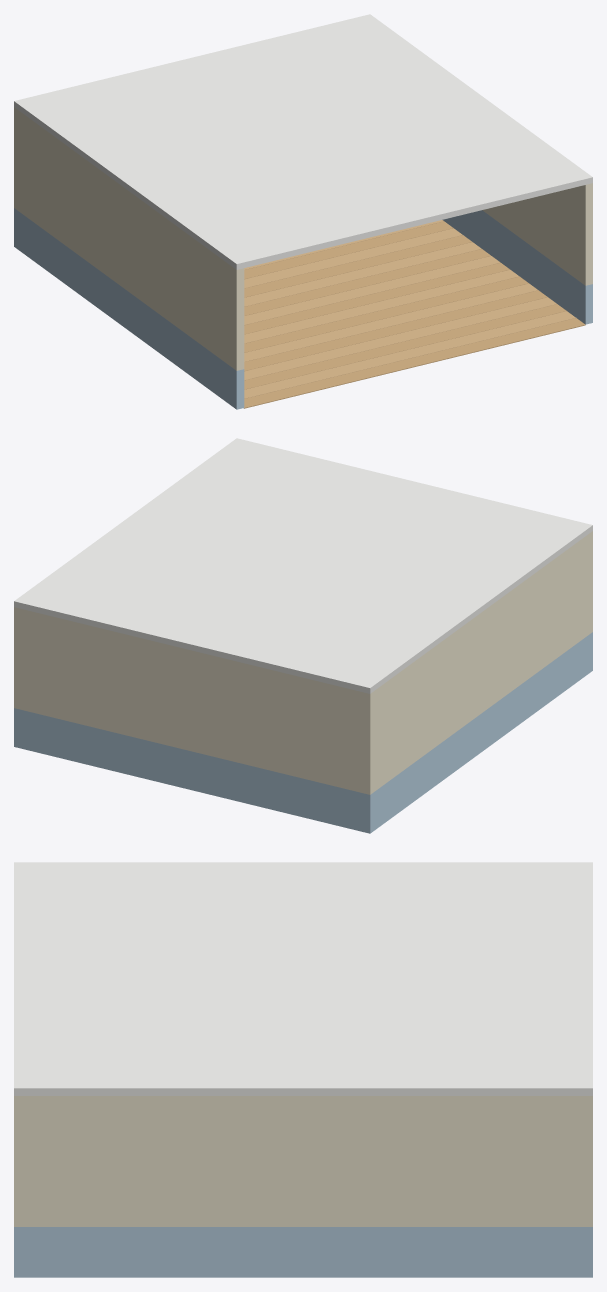
Rendered from classroom_room.glb.
3 renders of one model, top to bottom at view 1: azimuth 30°, elevation 25°; view 2: azimuth 150°, elevation 25°; view 3: azimuth 270°, elevation 25°, orthographic. The views are drawn at different scales.
Parts seen in each view (by area): view 1: classroom_room; view 2: classroom_room; view 3: classroom_room.
Boxes of the visible parts, x1,y1,x2,y2 form: classroom_room: (14,14,592,409); classroom_room: (14,438,592,833); classroom_room: (14,862,592,1277).
Bounding box in the file's own units: 9.6 × 3.77 × 10.4.
